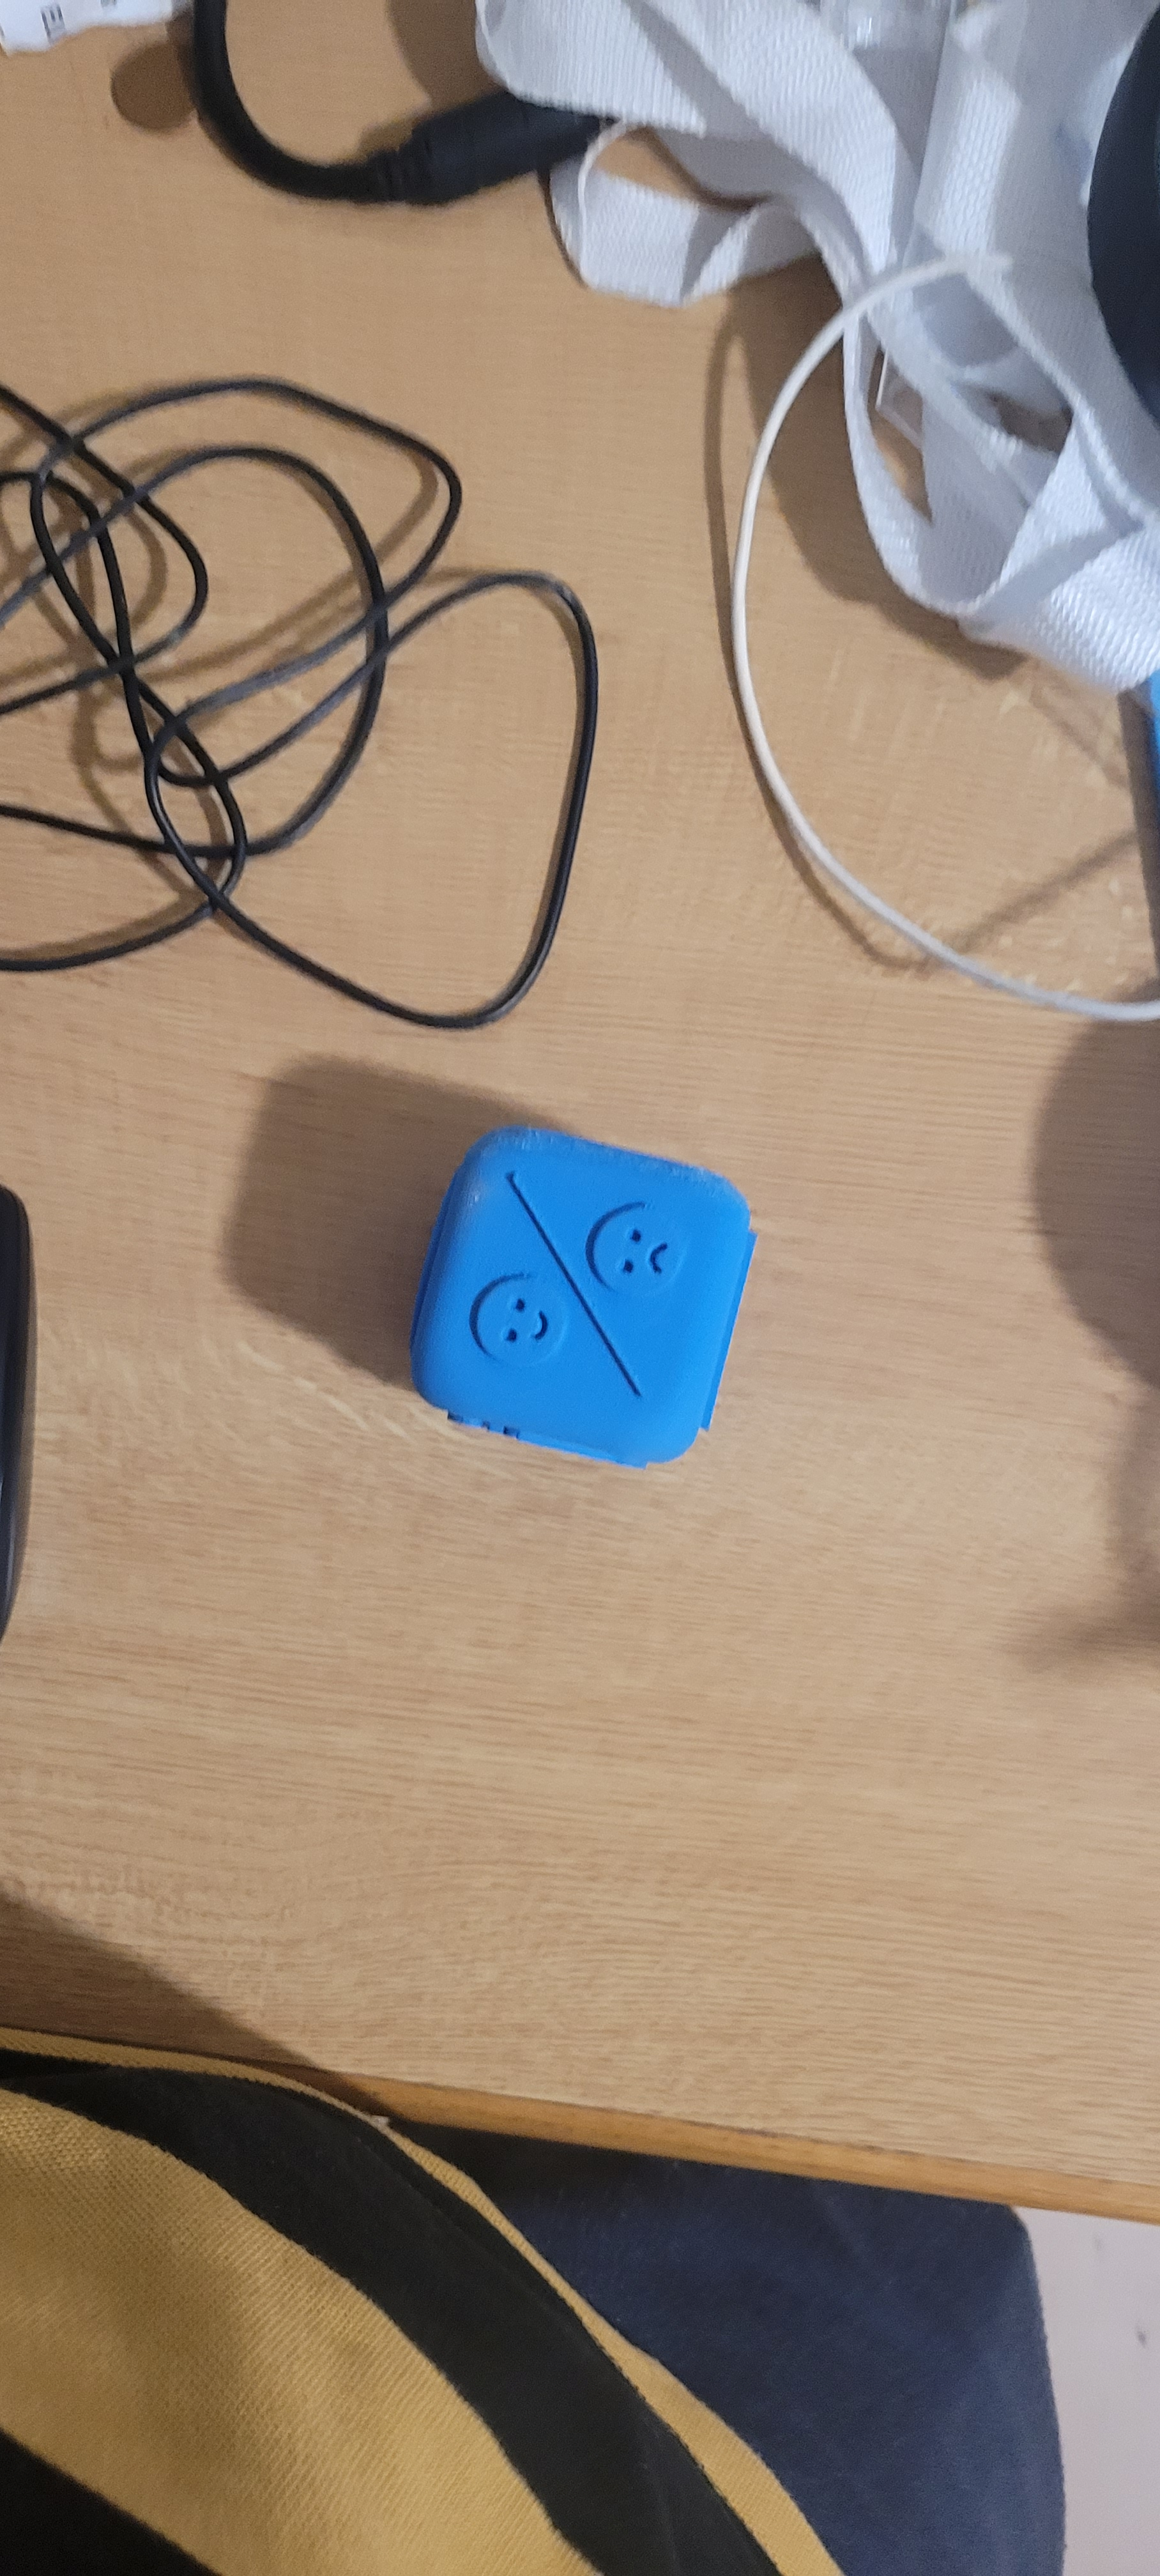Like/Dislike: (434, 1106, 728, 1483)
